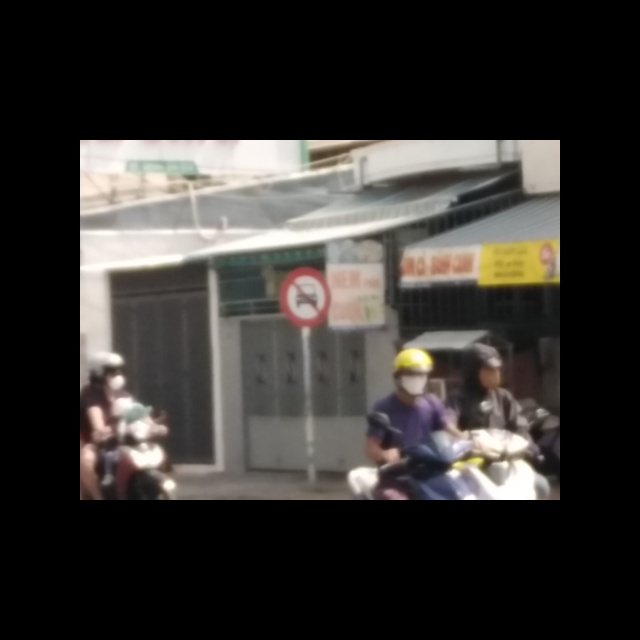Cấm xe ô tô: (280, 267, 335, 330)
